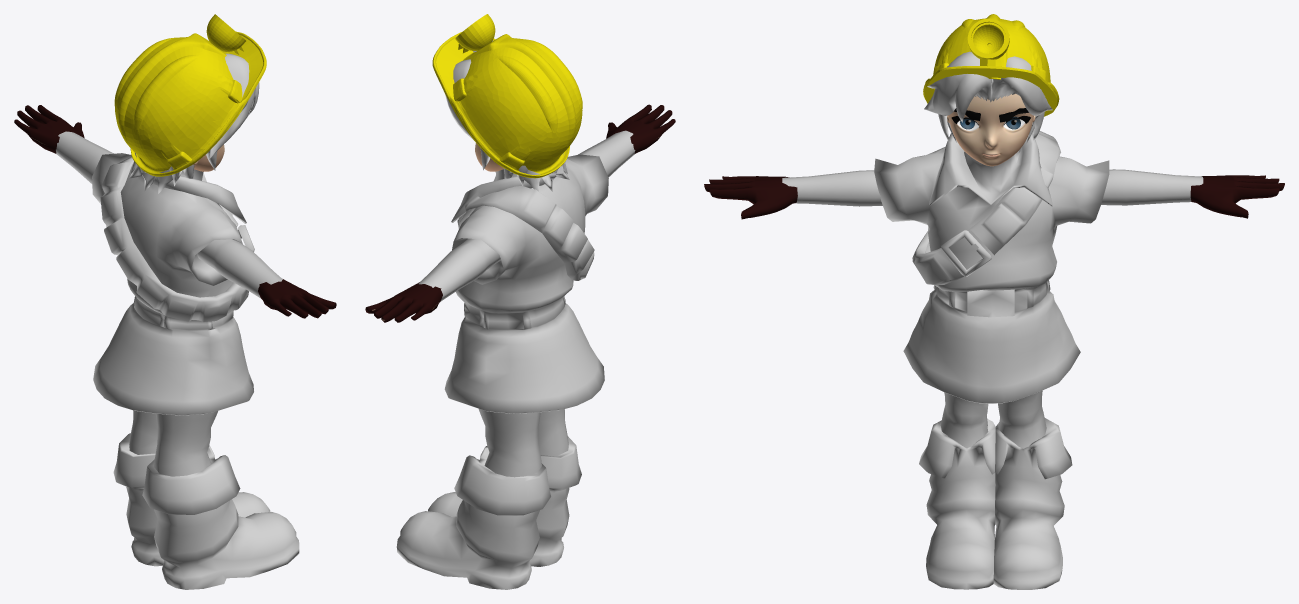
The model's file is character_new.fbx.
The picture shows the model from 3 angles, left to right: view 1: azimuth 30°, elevation 25°; view 2: azimuth 150°, elevation 25°; view 3: azimuth 270°, elevation 25°; orthographic projection.
Parts seen in each view (by area): view 1: surface_007_ref_0.002, helmet with light, surface_009_ref_0.002, surface_009_ref_0.006, Shoes_01_1.004, surface_005_ref_0, Shoes_01_1.010, Shoes_01_1.011, Shoes_01_1.005; view 2: surface_007_ref_0.002, helmet with light, surface_009_ref_0.006, surface_009_ref_0.002, Shoes_01_1.005, Shoes_01_1.011, Shoes_01_1.010, surface_005_ref_0, Shoes_01_1.004; view 3: surface_007_ref_0.002, surface_009_ref_0.006, surface_009_ref_0.002, helmet with light, surface_005_ref_0, Shoes_01_1.001, Shoes_01_1.005, Shoes_01_1.004, Shoes_01_1.011, Shoes_01_1.010, surface_002_ref_0.004.
Boxes of the visible parts, bbox=[...] form: surface_007_ref_0.002: bbox=[92, 153, 253, 476]; helmet with light: bbox=[114, 14, 266, 176]; surface_009_ref_0.002: bbox=[142, 445, 299, 589]; surface_009_ref_0.006: bbox=[113, 433, 270, 566]; Shoes_01_1.004: bbox=[197, 239, 282, 298]; surface_005_ref_0: bbox=[128, 53, 259, 193]; Shoes_01_1.010: bbox=[258, 279, 336, 318]; Shoes_01_1.011: bbox=[14, 105, 84, 153]; Shoes_01_1.005: bbox=[56, 131, 113, 183]; surface_007_ref_0.002: bbox=[444, 154, 608, 477]; helmet with light: bbox=[432, 14, 582, 178]; surface_009_ref_0.006: bbox=[396, 446, 550, 589]; surface_009_ref_0.002: bbox=[428, 436, 581, 566]; Shoes_01_1.005: bbox=[418, 238, 500, 301]; Shoes_01_1.011: bbox=[365, 282, 442, 322]; Shoes_01_1.010: bbox=[606, 104, 675, 153]; surface_005_ref_0: bbox=[445, 40, 569, 191]; Shoes_01_1.004: bbox=[578, 130, 635, 177]; surface_007_ref_0.002: bbox=[874, 129, 1109, 448]; surface_009_ref_0.006: bbox=[993, 418, 1072, 589]; surface_009_ref_0.002: bbox=[919, 419, 996, 589]; helmet with light: bbox=[923, 14, 1059, 116]; surface_005_ref_0: bbox=[924, 51, 1052, 143]; Shoes_01_1.001: bbox=[947, 93, 1035, 166]; Shoes_01_1.005: bbox=[1101, 169, 1203, 205]; Shoes_01_1.004: bbox=[782, 170, 882, 206]; Shoes_01_1.011: bbox=[1190, 175, 1284, 218]; Shoes_01_1.010: bbox=[704, 176, 797, 219]; surface_002_ref_0.004: bbox=[940, 229, 991, 276].
Size of the model in its own units: 12987 by 37919 by 36264.
